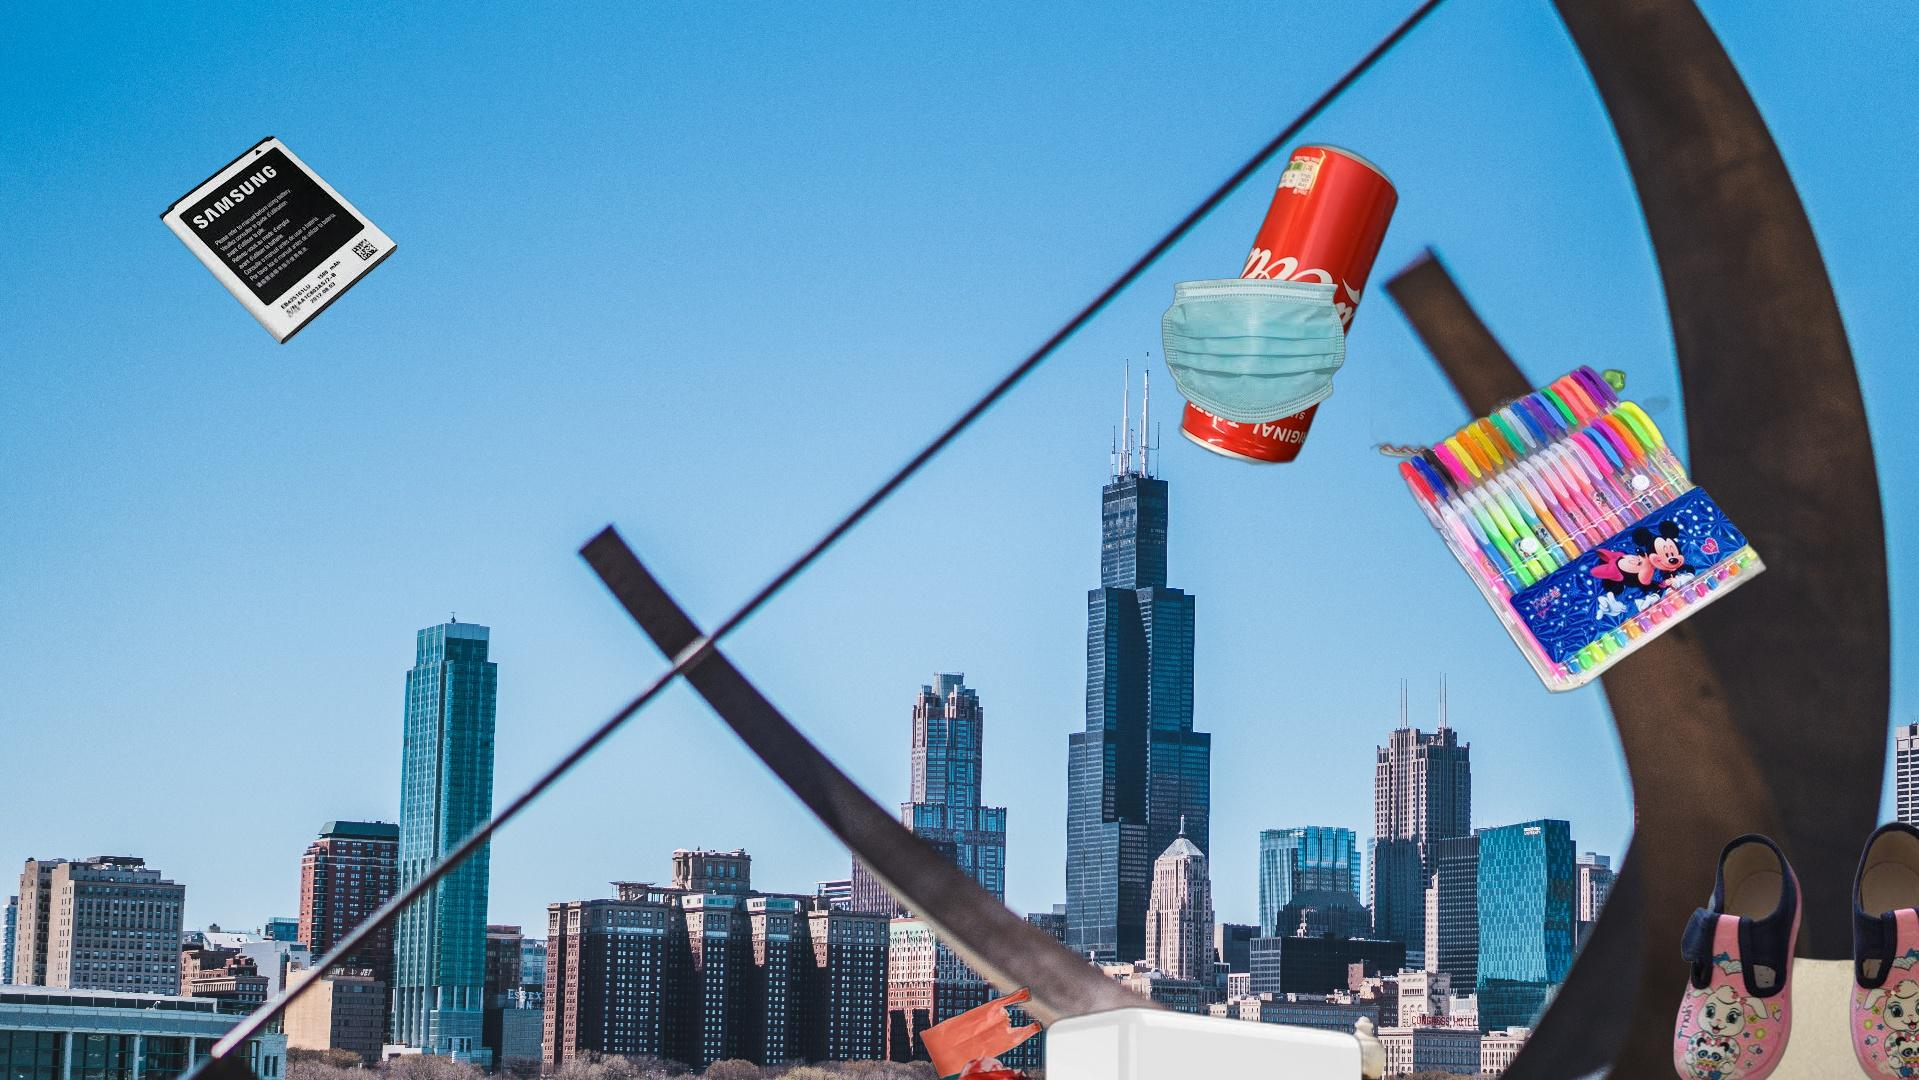battery: (1039, 1001, 1746, 1080), (158, 135, 398, 345)
metal-cans: (1176, 138, 1402, 469)
paper: (1688, 948, 1919, 1080)
penholder: (1369, 344, 1770, 694)
plastic-bag: (834, 982, 1075, 1080)
shoes: (1670, 818, 1919, 1080)
trash: (1159, 276, 1348, 426)
